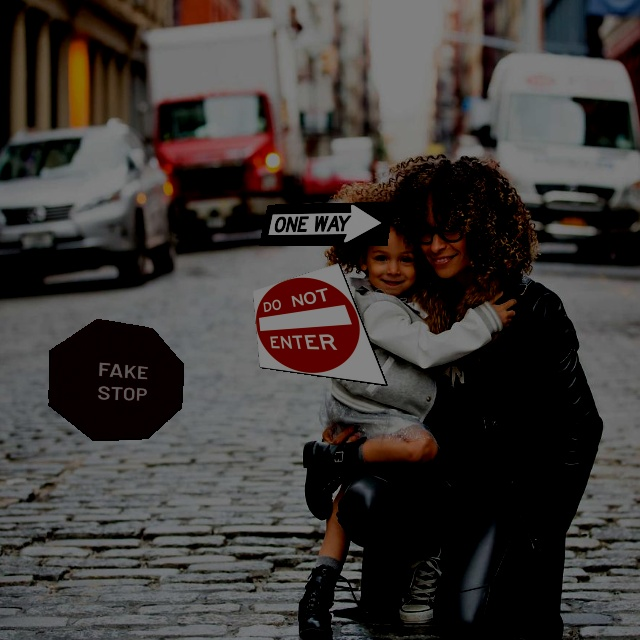DO_NOT_ENTER: (252, 262, 388, 386)
FAKE_STOP: (48, 318, 184, 441)
ONE_WAY_ right: (258, 201, 394, 246)
